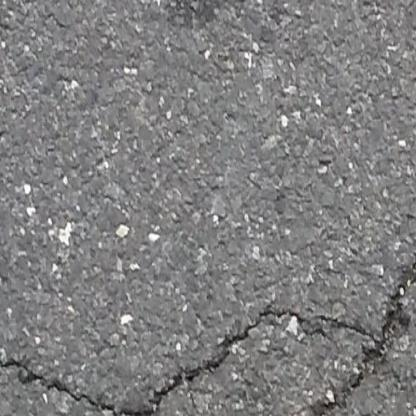Cracks: (0, 227, 416, 416)
